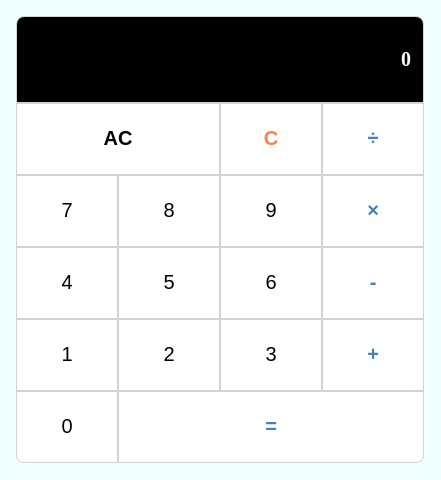
clear key › C button clears only last screen's character
The image size is (441, 480).
Step 1. Click the button "9" → (271, 210), box [221, 176, 321, 246]
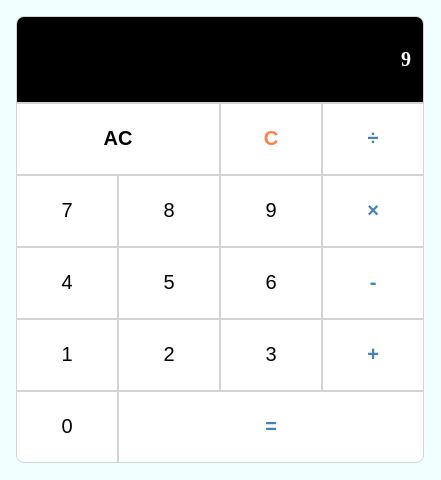
Step 2. Click the button "4" → (67, 282), box [17, 248, 117, 318]
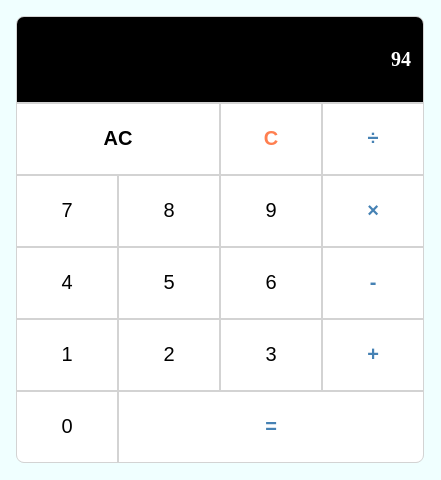
Step 3. Click the button "C" → (271, 138), box [221, 104, 321, 174]
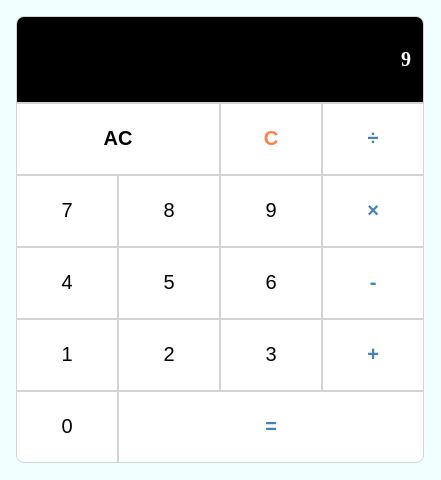
Now the text named "result" reads "9", box [401, 48, 411, 70]
